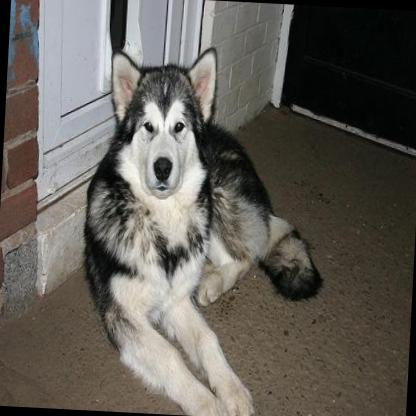malamute: (71, 36, 333, 416)
